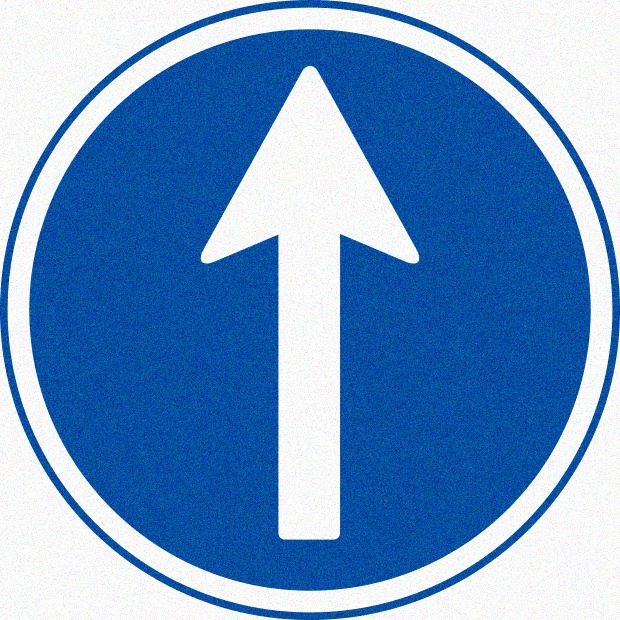Direction_sign: (4, 12, 620, 609)
